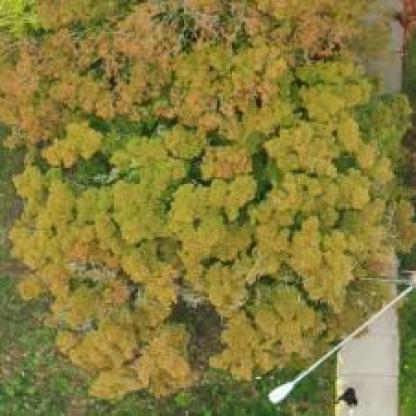Deciduous Tree: (16, 0, 416, 373)
